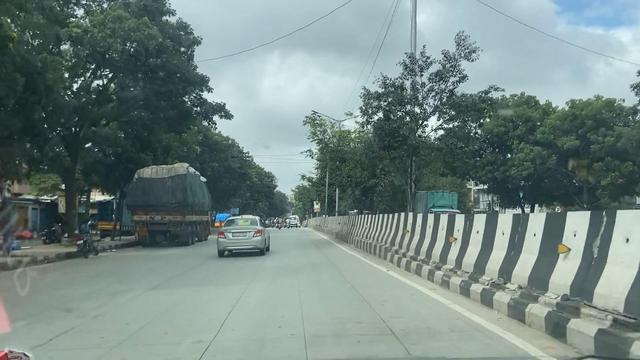HMV: (124, 158, 213, 241)
